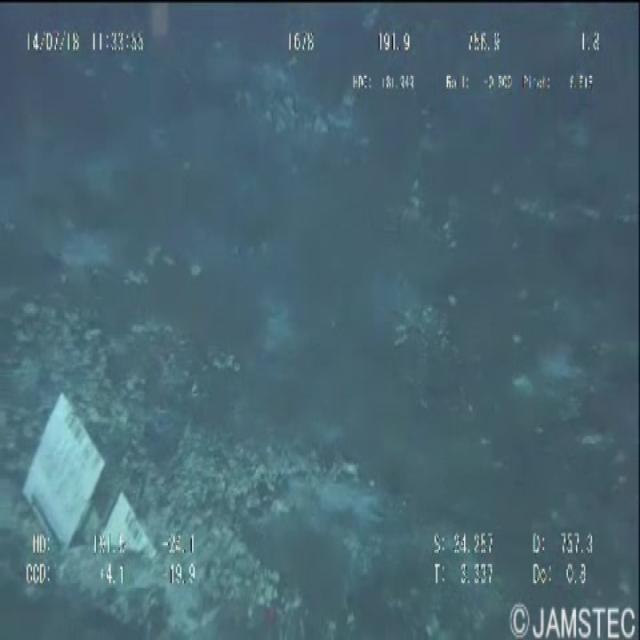Glass: (22, 372, 172, 604)
